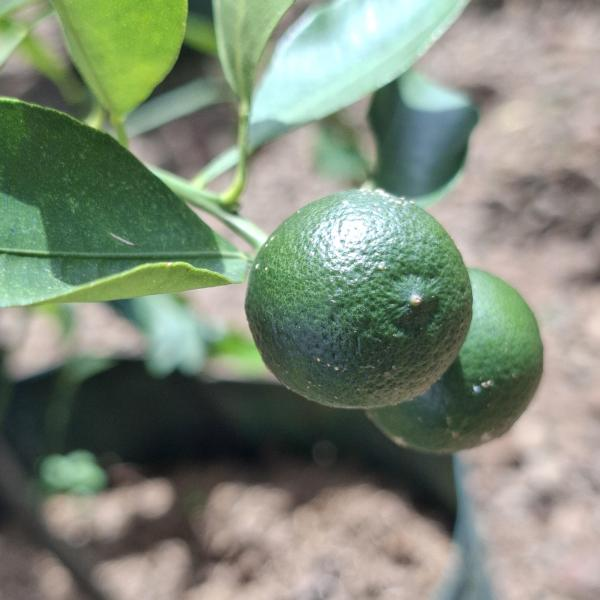Scab: (238, 180, 483, 418), (352, 265, 560, 472)
